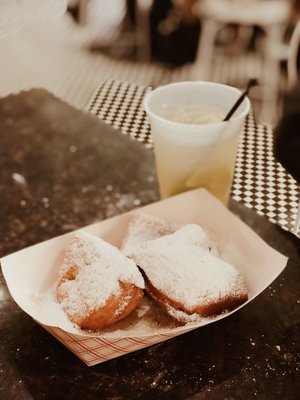pizza: (143, 80, 250, 206)
salad: (222, 78, 258, 122)
